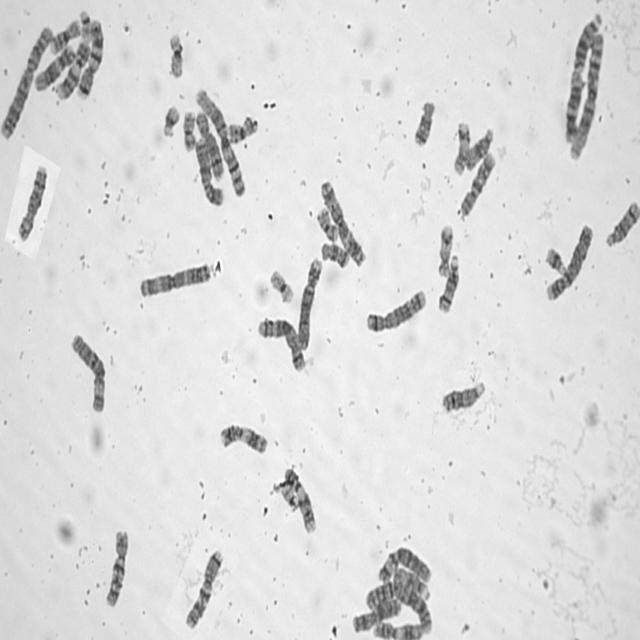A1: (193, 85, 246, 199), (566, 30, 606, 160)
A2: (0, 22, 54, 142), (364, 580, 434, 636)
A3: (317, 176, 368, 269), (136, 258, 214, 299)
B4: (544, 220, 595, 304), (295, 253, 324, 351)
B5: (255, 313, 308, 374), (364, 286, 428, 334)
C10: (458, 147, 497, 219), (103, 526, 130, 610)
C11: (218, 420, 269, 456), (370, 618, 427, 640)
C12: (32, 41, 77, 93), (563, 70, 586, 143)
C6: (68, 329, 107, 415), (375, 544, 432, 586)
C7: (183, 546, 225, 630), (75, 15, 105, 101)
C8: (15, 161, 49, 244), (194, 106, 226, 182)
C9: (280, 464, 317, 537), (56, 40, 92, 100)
D13: (570, 9, 604, 74), (440, 378, 487, 415)
D14: (602, 197, 640, 250), (436, 252, 460, 314)
D15: (392, 564, 432, 604), (463, 124, 496, 172)
E16: (48, 16, 81, 56), (224, 113, 259, 146)
E17: (451, 118, 471, 177), (436, 222, 454, 278)
E18: (412, 96, 436, 148), (319, 238, 351, 270)
F19: (268, 266, 294, 305), (166, 31, 186, 80)
F20: (312, 204, 340, 244), (181, 108, 198, 154)
G21: (544, 243, 567, 277), (161, 101, 182, 138)
G22: (281, 483, 299, 512), (79, 7, 93, 41)
X: (193, 134, 225, 209), (350, 595, 402, 634)
